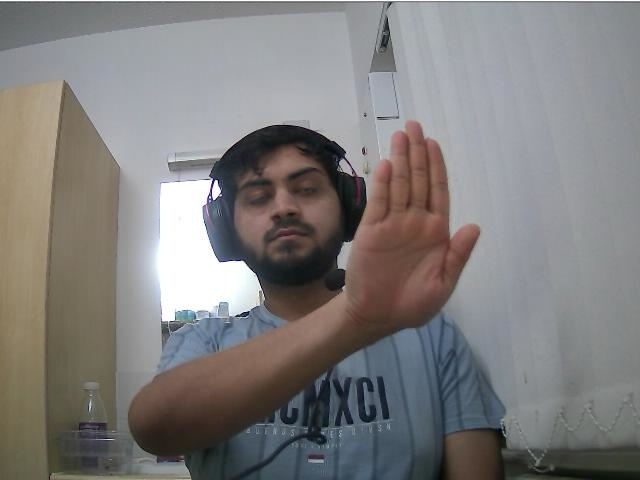up: (346, 121, 462, 318)
